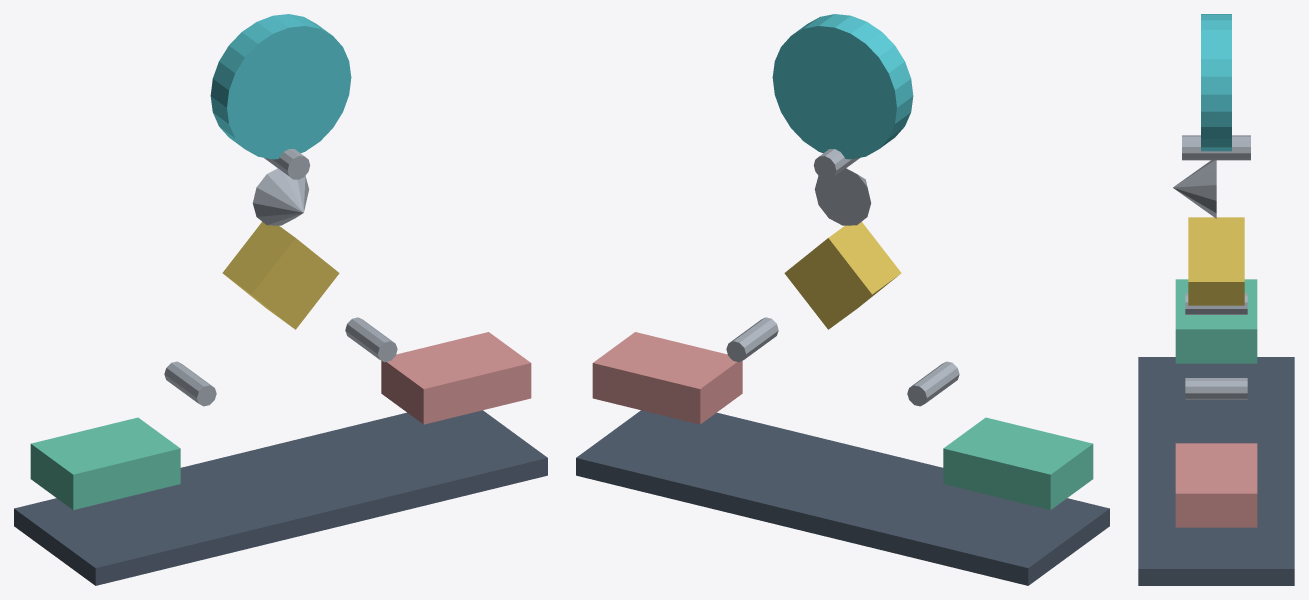
File: FlujoLogicoAlgoritmo.glb
3 renders of one model, left to right at view 1: azimuth 30°, elevation 25°; view 2: azimuth 150°, elevation 25°; view 3: azimuth 270°, elevation 25°, orthographic. The views are drawn at different scales.
Parts seen in each view (by area): view 1: n8, n0, n5, n7, n3, n2, n6, n4, n1; view 2: n8, n0, n5, n7, n3, n2, n6, n4, n1; view 3: n8, n7, n3, n5, n0, n2, n6, n1, n4.
Part boxes in pixels (left/top/right/bottom): n8: left=14, top=410, right=547, bottom=585; n0: left=210, top=14, right=351, bottom=159; n5: left=30, top=417, right=180, bottom=509; n7: left=381, top=332, right=531, bottom=424; n3: left=222, top=221, right=339, bottom=329; n2: left=252, top=168, right=309, bottom=225; n6: left=345, top=317, right=397, bottom=362; n4: left=164, top=361, right=216, bottom=406; n1: left=264, top=149, right=310, bottom=179; n8: left=576, top=410, right=1109, bottom=585; n0: left=772, top=14, right=913, bottom=159; n5: left=943, top=417, right=1093, bottom=509; n7: left=592, top=332, right=742, bottom=424; n3: left=784, top=221, right=901, bottom=329; n2: left=814, top=168, right=871, bottom=225; n6: left=726, top=317, right=778, bottom=362; n4: left=907, top=361, right=959, bottom=406; n1: left=813, top=149, right=859, bottom=179; n8: left=1138, top=357, right=1294, bottom=585; n7: left=1175, top=443, right=1257, bottom=527; n3: left=1188, top=217, right=1244, bottom=305; n5: left=1175, top=279, right=1257, bottom=363; n0: left=1201, top=14, right=1231, bottom=151; n2: left=1173, top=160, right=1216, bottom=218; n6: left=1185, top=378, right=1247, bottom=399; n1: left=1182, top=135, right=1250, bottom=160; n4: left=1185, top=293, right=1247, bottom=314.
Size of the model in its own units: 1.62 by 1.62 by 0.5.
